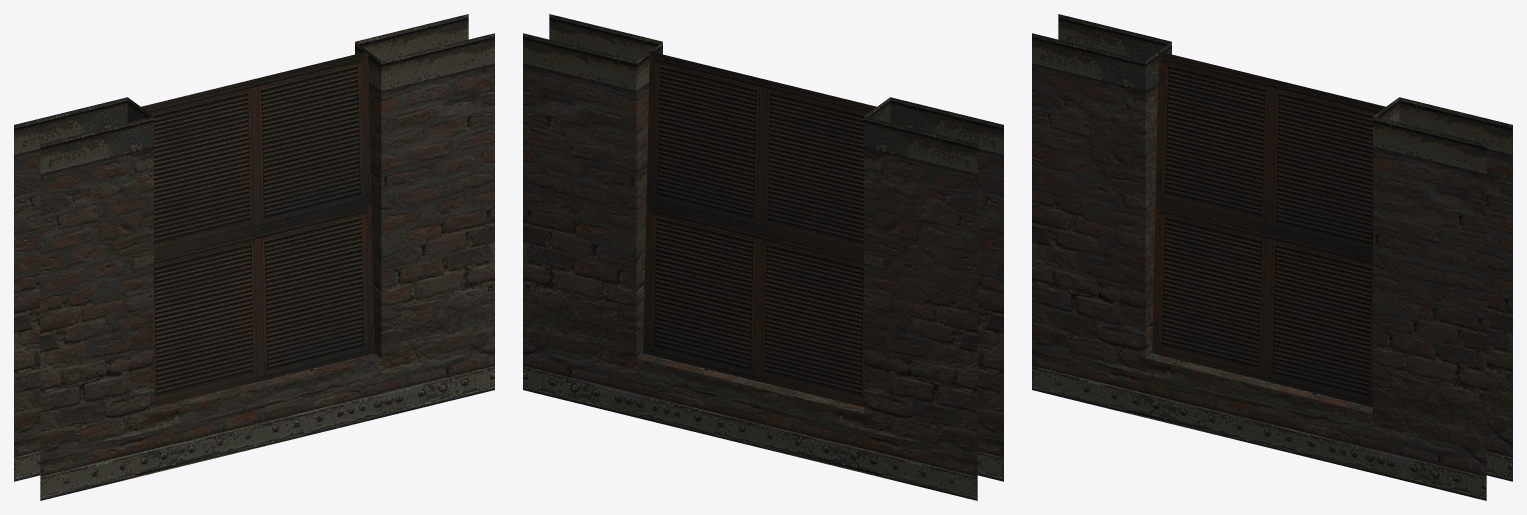
Rendered from wall_hr_1_m_1.obj.
3 views of the same model, side by side, from view 1: azimuth 30°, elevation 25°; view 2: azimuth 150°, elevation 25°; view 3: azimuth 330°, elevation 25° (orthographic).
Parts seen in each view (by area): view 1: wall_hr_1_m_1; view 2: wall_hr_1_m_1; view 3: wall_hr_1_m_1.
Part boxes in pixels (box(x1,y1,x2,y2)): wall_hr_1_m_1: box(14, 14, 494, 500); wall_hr_1_m_1: box(523, 14, 1003, 500); wall_hr_1_m_1: box(1032, 14, 1512, 500).
Bounding box in the file's own units: 4 × 3 × 0.4.
